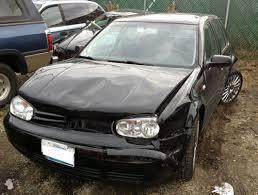bonnet-dent: (29, 60, 175, 115)
front-bumper-dent: (22, 139, 148, 180)
